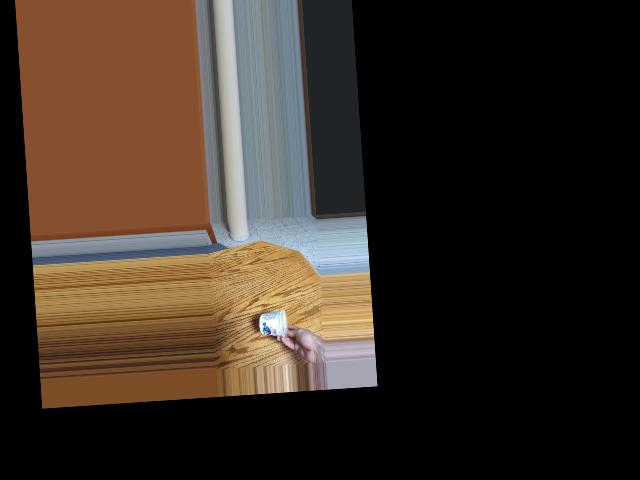cotage: (259, 306, 289, 339)
